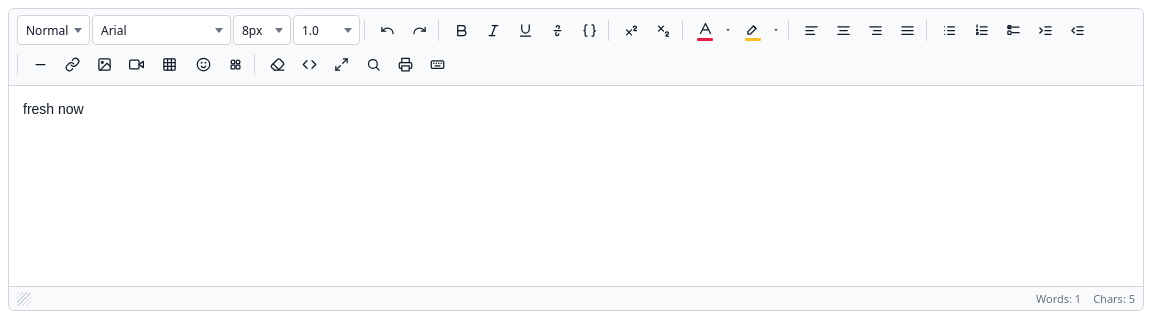
it: AutumnNote integration › syncs editable content back to textarea on input immediately
Clear the field labelled "fresh now". click: (53, 109)
box: [23,101,84,117]
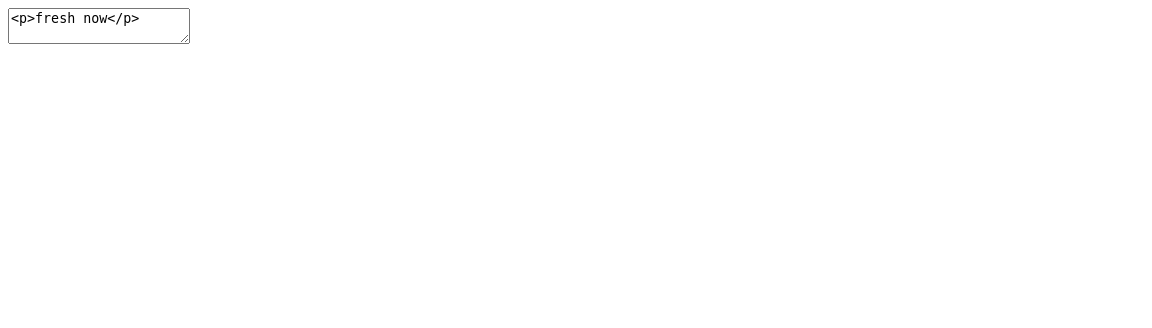
expect the text box with id "sync-editor" holds "<p>fresh now</p>": met, box [8,8,190,44]
